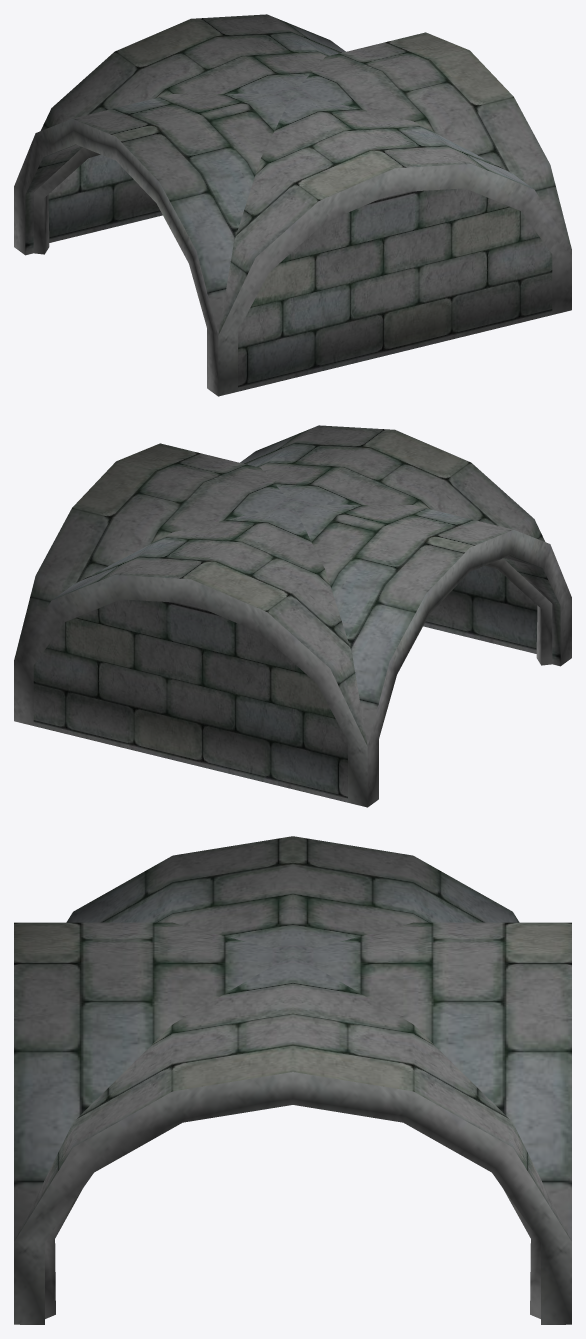
File: vault_ceiling_large_03.glb
The picture shows the model from 3 angles, top to bottom: view 1: azimuth 30°, elevation 25°; view 2: azimuth 150°, elevation 25°; view 3: azimuth 270°, elevation 25°; orthographic projection. The views are drawn at different scales.
Parts seen in each view (by area): view 1: vault_ceiling_large_03; view 2: vault_ceiling_large_03; view 3: vault_ceiling_large_03.
Part boxes in pixels (x1,y1,x2,y2): vault_ceiling_large_03: (14,14,571,396); vault_ceiling_large_03: (14,425,571,807); vault_ceiling_large_03: (14,836,571,1324).
Size of the model in its own units: 4 by 2 by 4.
1 material, 1 textured.
